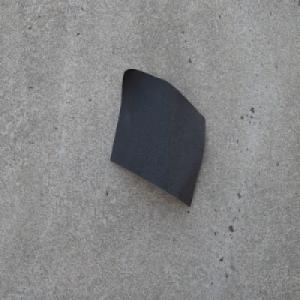PaintChip: (109, 67, 206, 209)
